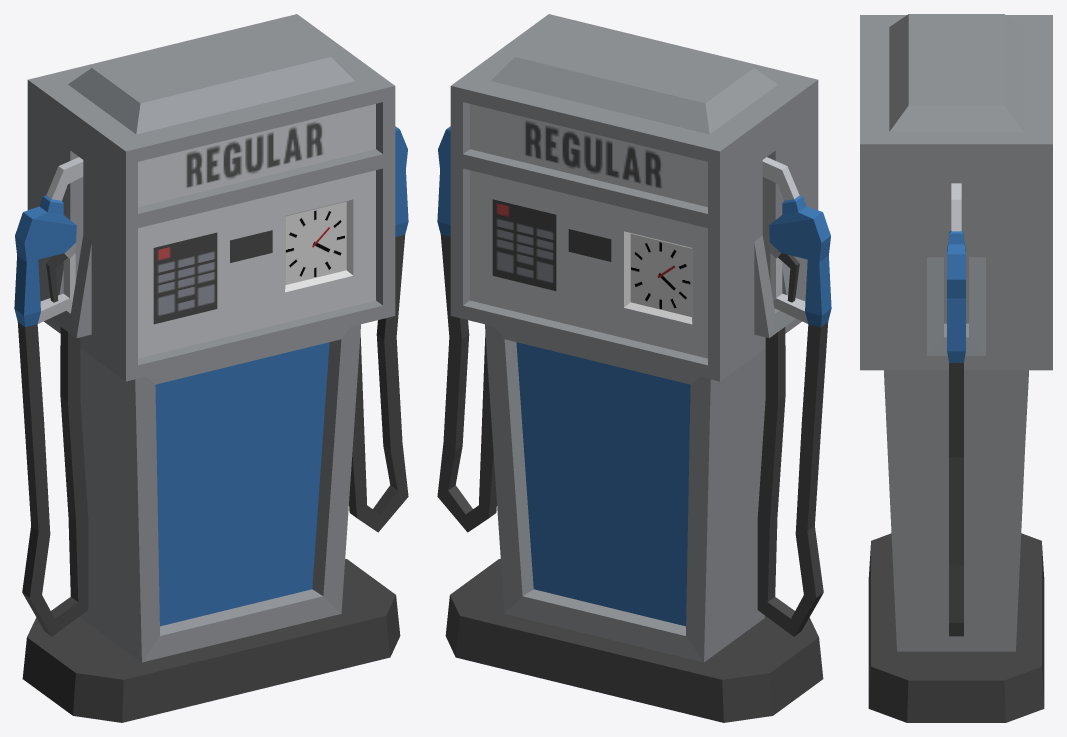
Rendered from SM_Prop_Gaspump_01.fbx.
The picture shows the model from 3 angles, left to right: view 1: azimuth 30°, elevation 25°; view 2: azimuth 150°, elevation 25°; view 3: azimuth 270°, elevation 25°; orthographic projection.
Parts seen in each view (by area): view 1: SM_Prop_Gaspump_01; view 2: SM_Prop_Gaspump_01; view 3: SM_Prop_Gaspump_01.
Boxes of the visible parts, x1=… form: SM_Prop_Gaspump_01: x1=14, y1=14, x2=408, y2=722; SM_Prop_Gaspump_01: x1=437, y1=14, x2=831, y2=722; SM_Prop_Gaspump_01: x1=860, y1=14, x2=1052, y2=722.
Bounding box in the file's own units: 145 × 214 × 63.99.
